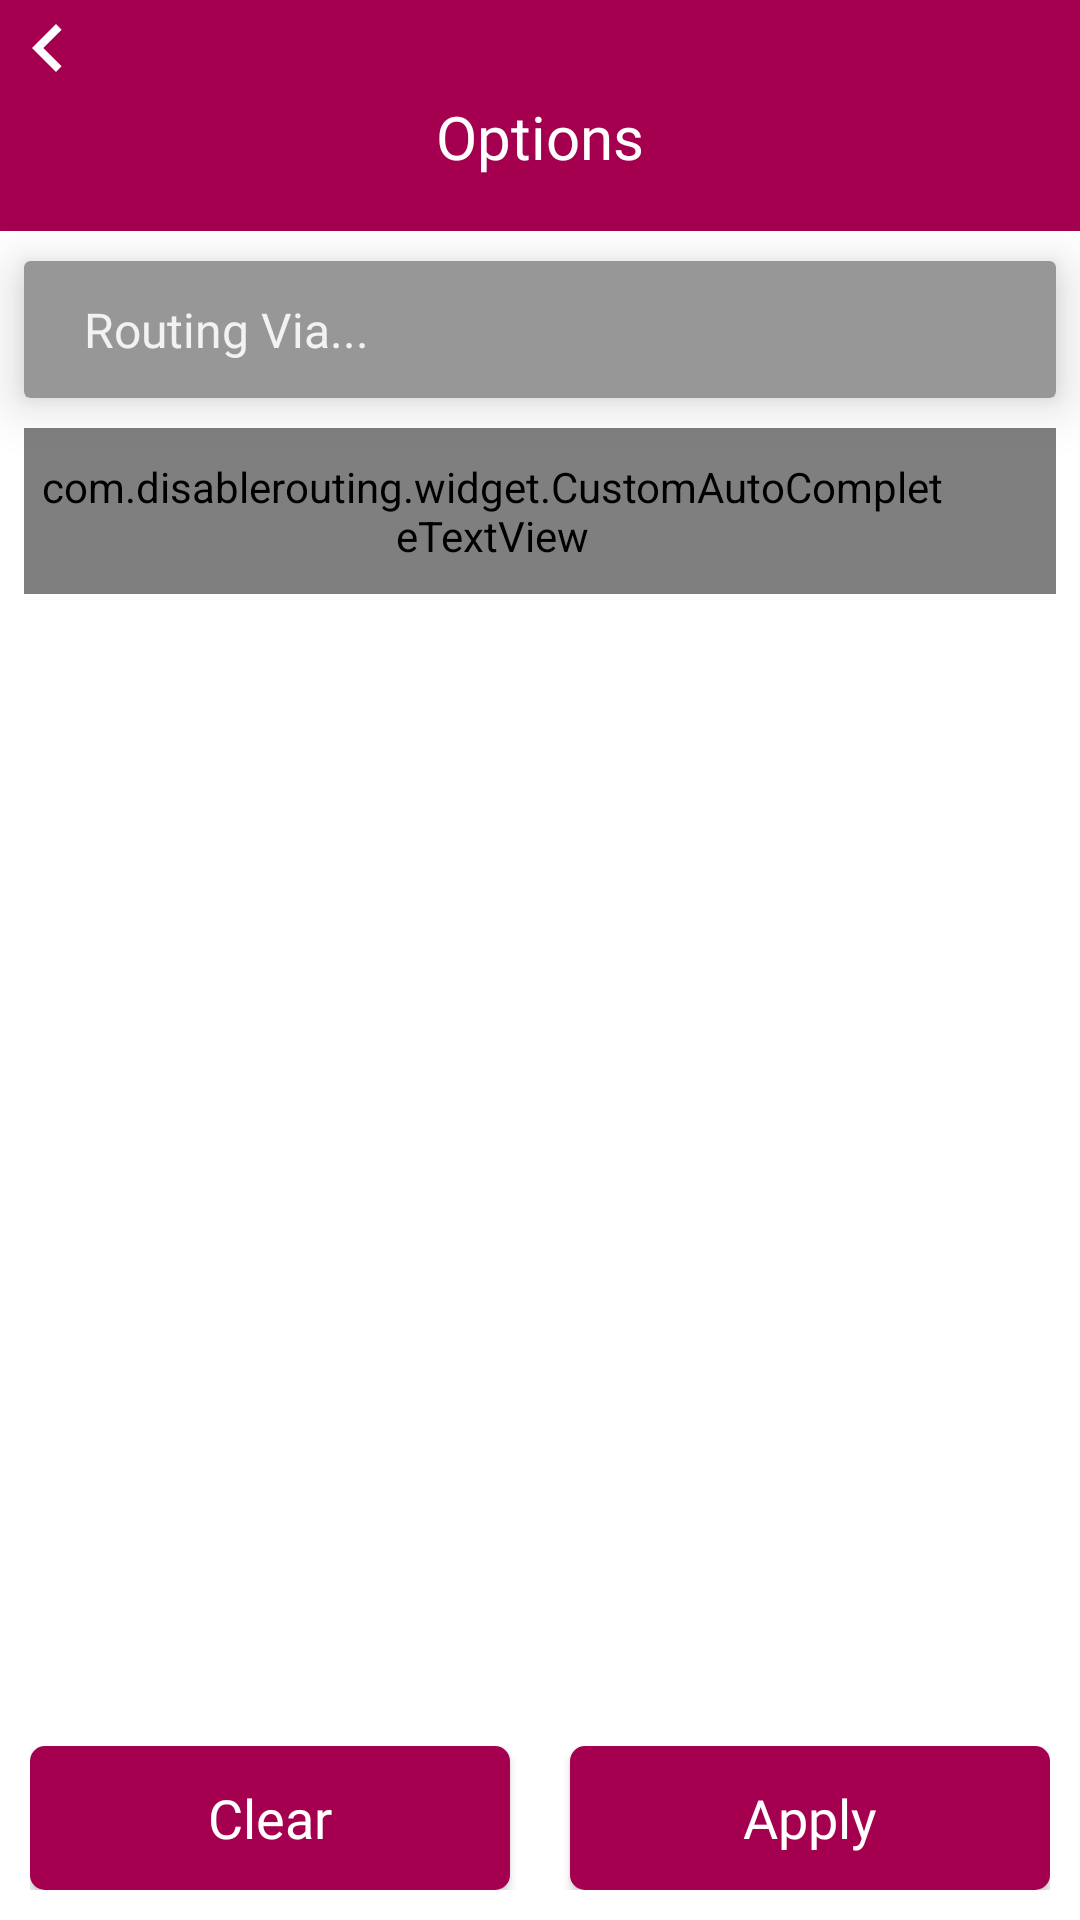

Icon bounding boxes for this 1080x1920 phone screenshot, format (x1, y1, x2, y2):
navigate back: (32, 24, 62, 72)
